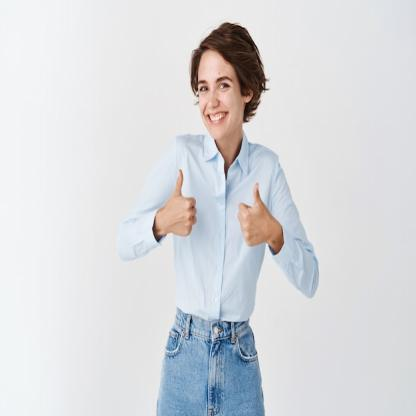thumb_up: (161, 166, 199, 240), (236, 180, 271, 249)
